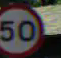Speed limit: (1, 4, 45, 53)
